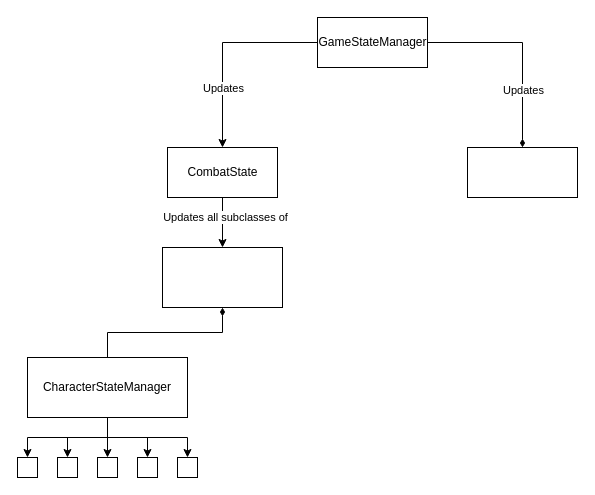
Some shapes in this 595 by 495 pixel diagram are drawn without their labels. Each missing label, with the centre of its shape:
CombatBase: point (222, 277)
OtherStates: point (522, 172)
